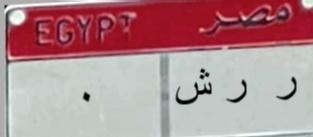0: (74, 82, 100, 111)
raa: (271, 70, 301, 109), (223, 75, 251, 110)
sheen: (172, 63, 214, 116)
